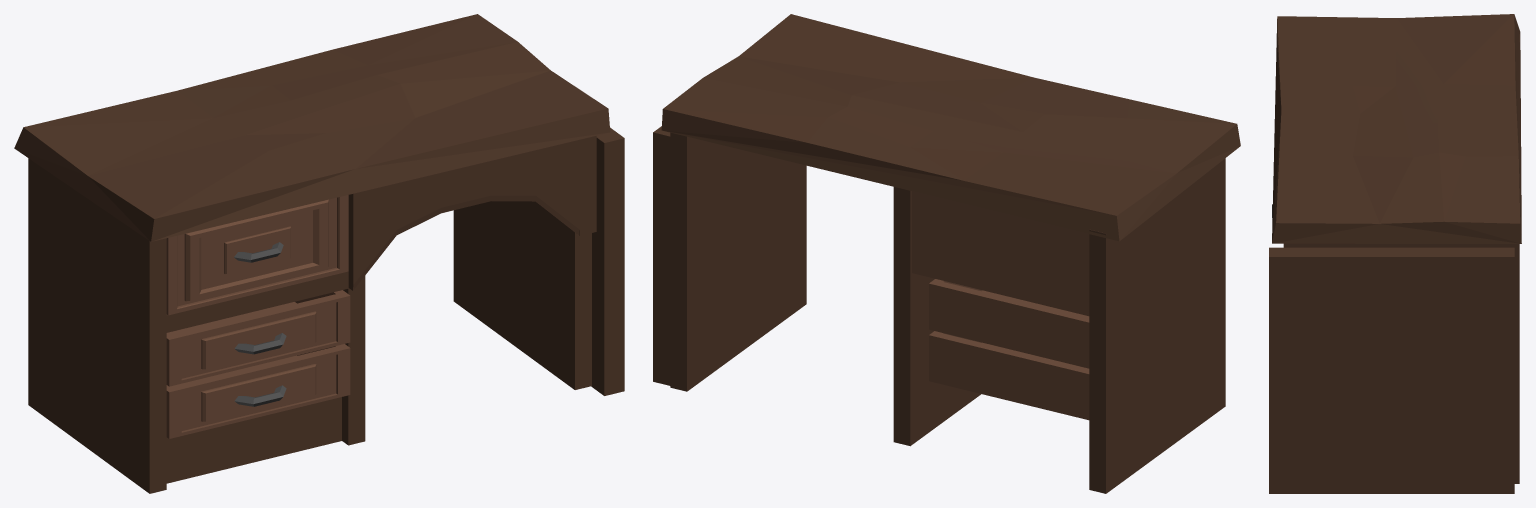
The model's file is Столешница.fbx.
The picture shows the model from 3 angles, left to right: view 1: azimuth 30°, elevation 25°; view 2: azimuth 150°, elevation 25°; view 3: azimuth 270°, elevation 25°; orthographic projection. The views are drawn at different scales.
Visible parts, largest first — view 1: Cube.013, полка1, полка2, полка3; view 2: Cube.013, полка1, полка2, полка3; view 3: Cube.013.
Part boxes in pixels (x1,y1,x2,y2): Cube.013: (14,14,624,493); полка1: (166,195,348,315); полка2: (166,290,350,386); полка3: (166,344,350,438); Cube.013: (653,14,1240,493); полка1: (912,191,1089,316); полка2: (929,279,1089,368); полка3: (929,331,1089,420); Cube.013: (1269,14,1521,493).
Bounding box in the file's own units: 420 × 243 × 206.
